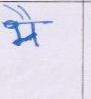e_matra: (4, 5, 35, 20)
